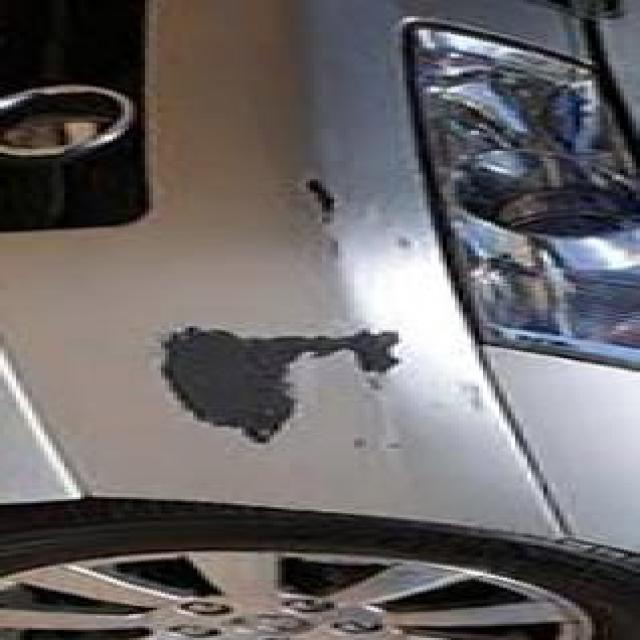scratch: (153, 298, 423, 463), (270, 164, 358, 265)
